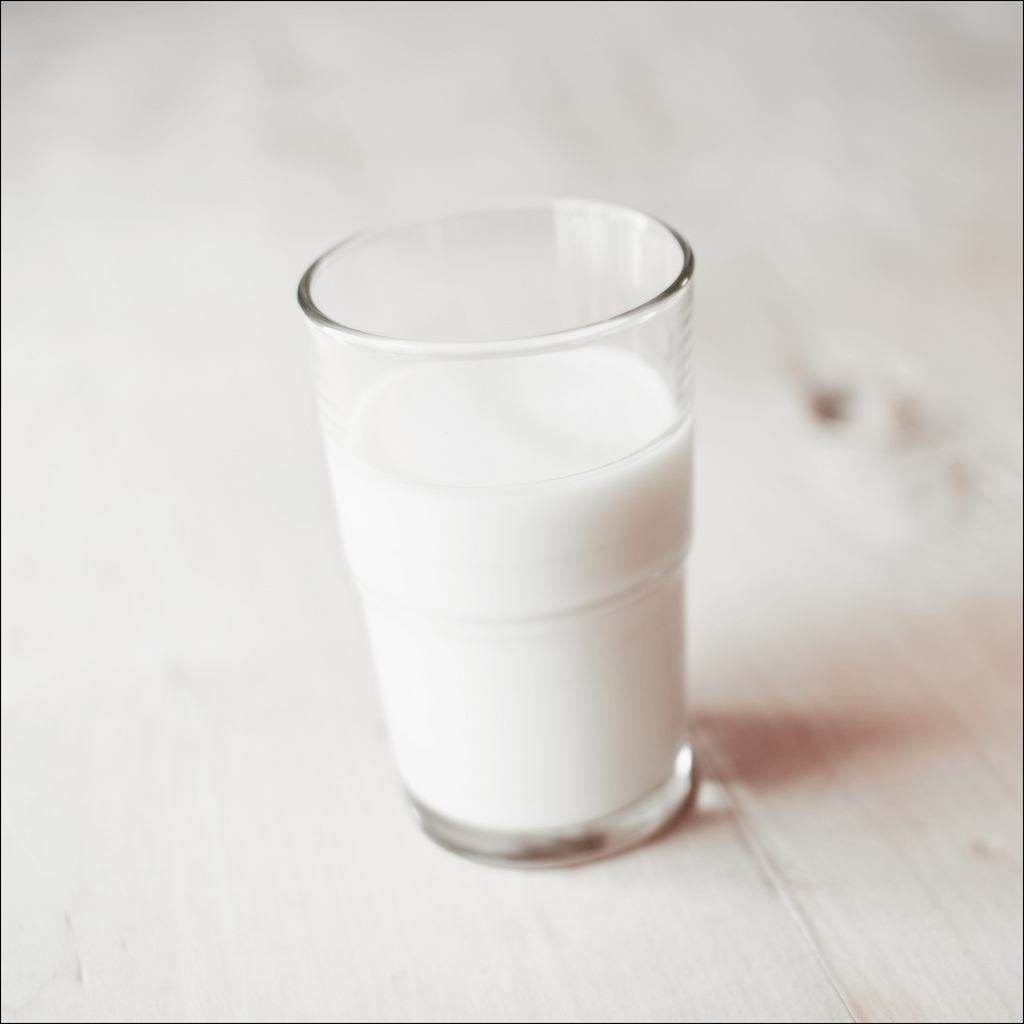glass of milk: (306, 217, 734, 876)
